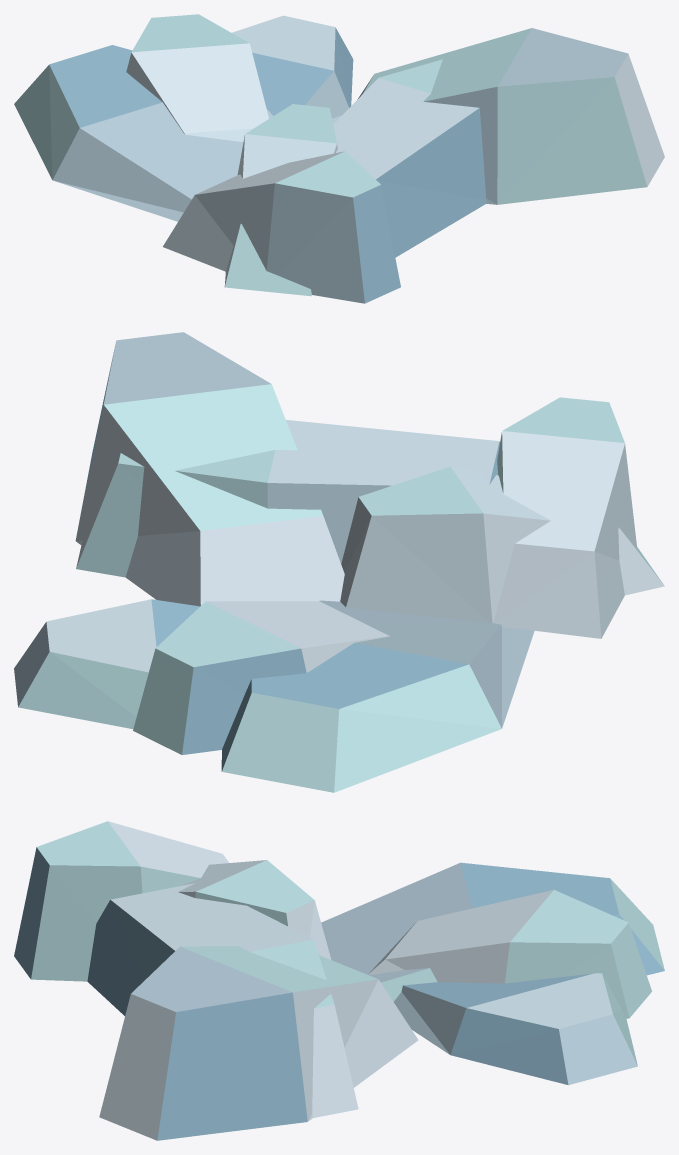
The model's file is Ice Rocks 5.fbx.
The picture shows the model from 3 angles, top to bottom: view 1: azimuth 30°, elevation 25°; view 2: azimuth 150°, elevation 25°; view 3: azimuth 270°, elevation 25°; orthographic projection. The views are drawn at different scales.
Parts seen in each view (by area): view 1: Ice block 3; view 2: Ice block 3; view 3: Ice block 3.
Boxes of the visible parts, left/top/right/bottom form: Ice block 3: left=14, top=14, right=664, bottom=303; Ice block 3: left=14, top=332, right=664, bottom=792; Ice block 3: left=14, top=821, right=664, bottom=1140.
Bounding box in the file's own units: 747 × 171 × 813.
